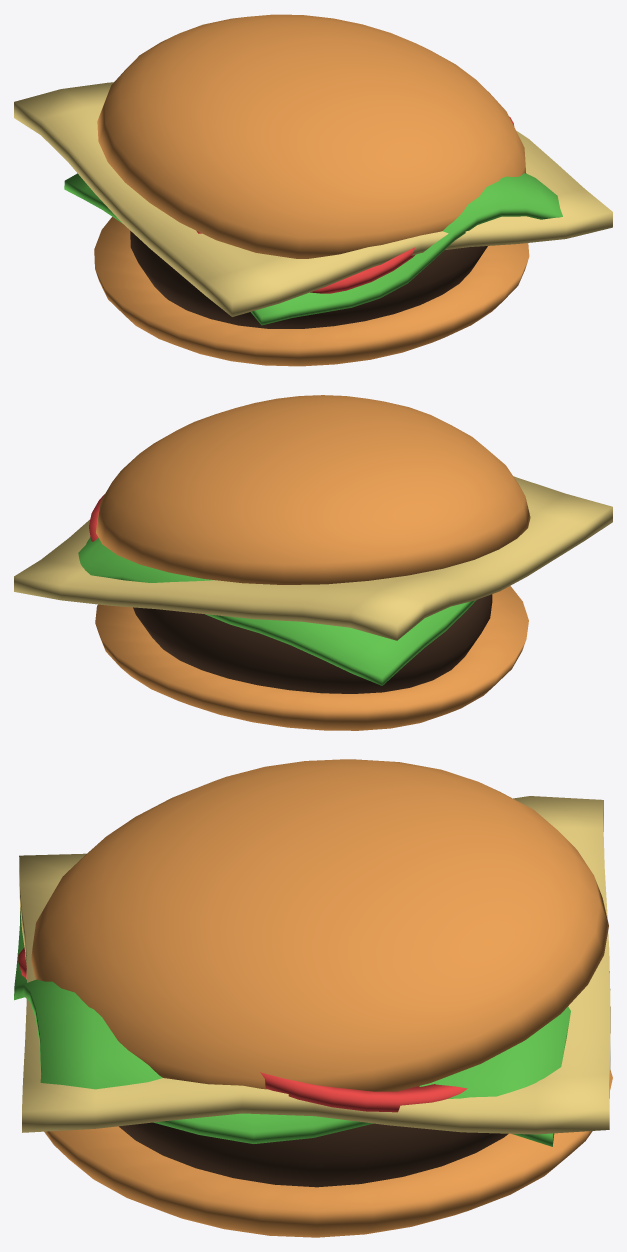
The model's file is hamburger.fbx.
3 views of the same model, one above another, from view 1: azimuth 30°, elevation 25°; view 2: azimuth 150°, elevation 25°; view 3: azimuth 270°, elevation 25° (orthographic). The views are drawn at different scales.
Visible parts, largest first — view 1: Plane.001; view 2: Plane.001; view 3: Plane.001.
Part boxes in pixels (x1=…): Plane.001: x1=14, y1=14, x2=612, y2=366; Plane.001: x1=14, y1=395, x2=612, y2=730; Plane.001: x1=14, y1=759, x2=612, y2=1237.
Bounding box in the file's own units: 206 × 132 × 205.
